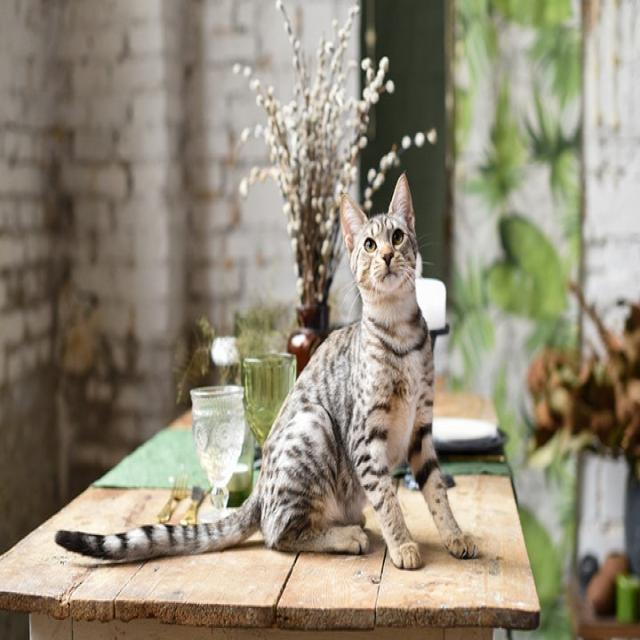Savannah: (52, 171, 481, 573)
